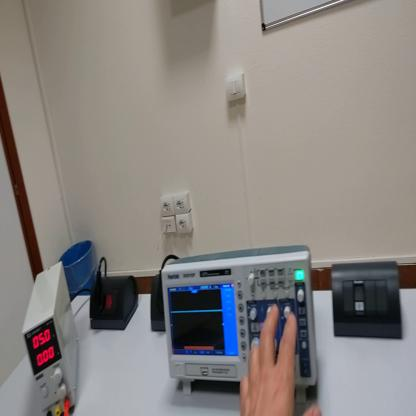hand: (239, 300, 324, 414)
oscilloscope: (164, 244, 320, 404)
power supply: (23, 266, 81, 414)
socket: (92, 270, 139, 335), (151, 274, 167, 334)
